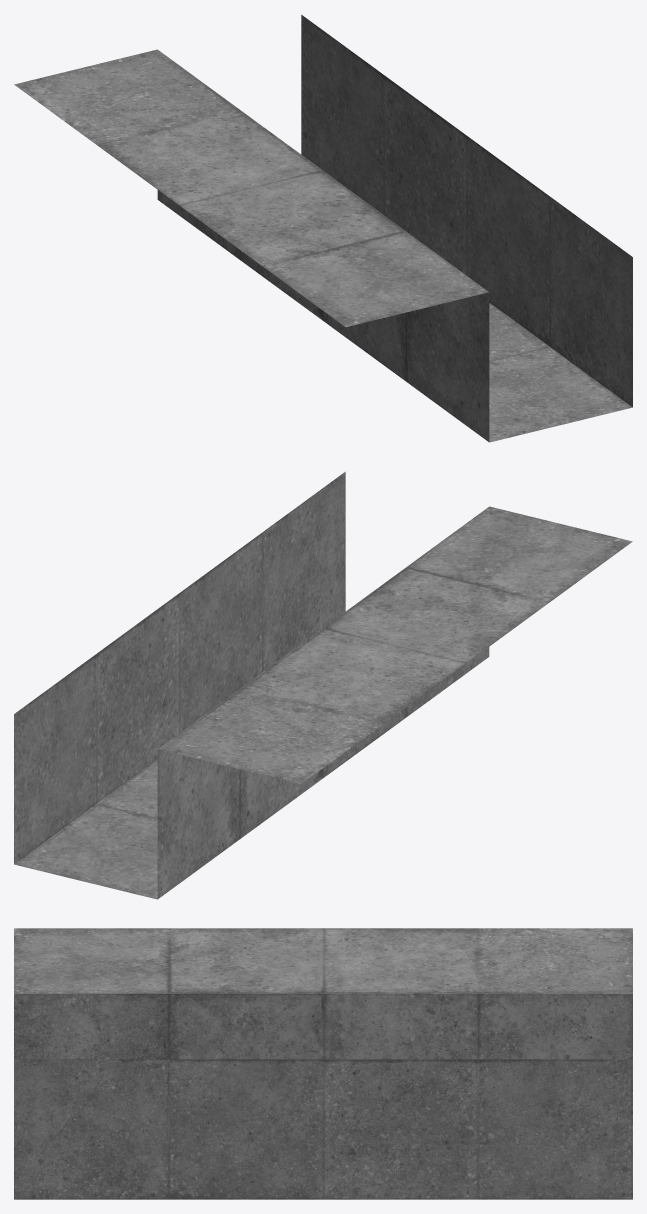
Rendered from SM_Ceiling_20.fbx.
3 views of the same model, one above another, from view 1: azimuth 30°, elevation 25°; view 2: azimuth 150°, elevation 25°; view 3: azimuth 270°, elevation 25° (orthographic). The views are drawn at different scales.
Parts seen in each view (by area): view 1: SM_Ceiling_20; view 2: SM_Ceiling_20; view 3: SM_Ceiling_20.
Boxes of the visible parts, left/top/right/bottom form: SM_Ceiling_20: left=14, top=14, right=632, bottom=442; SM_Ceiling_20: left=14, top=471, right=632, bottom=899; SM_Ceiling_20: left=14, top=928, right=632, bottom=1199.
Bounding box in the file's own units: 200 × 100 × 400.
